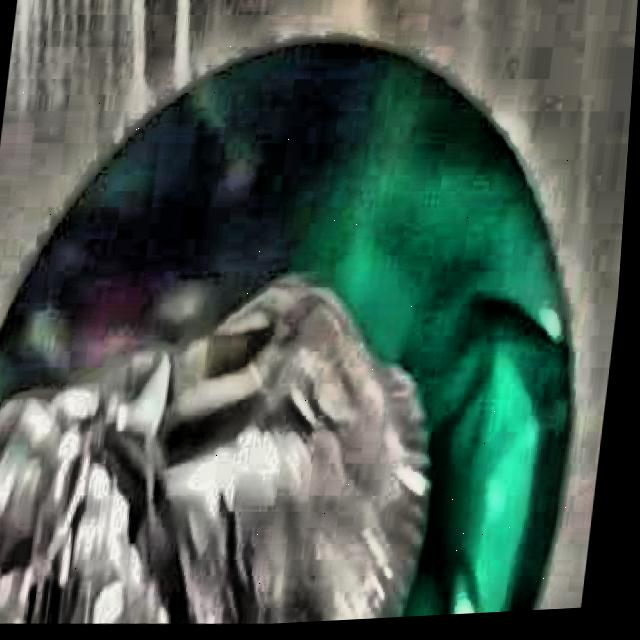metal: (0, 280, 437, 627)
